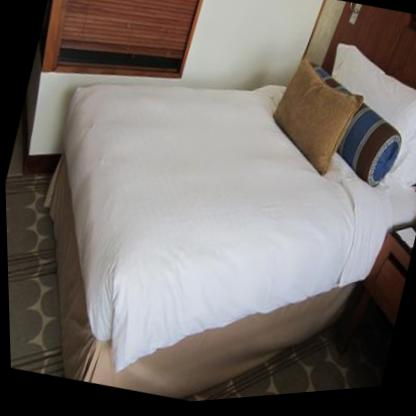Bed: (53, 50, 416, 403)
Carpet: (4, 159, 60, 378)
